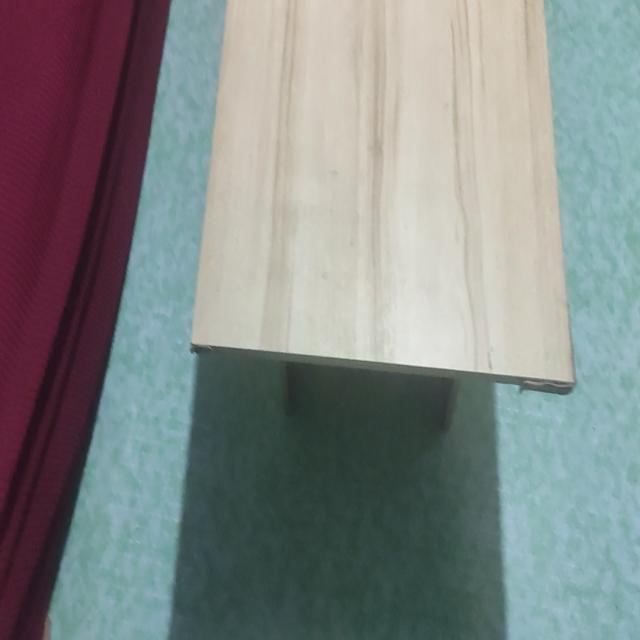table: (195, 0, 582, 467)
